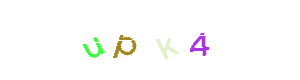4: (160, 0, 240, 80)
K: (110, 0, 190, 80)
P: (84, 0, 164, 80)
U: (55, 0, 135, 80)
